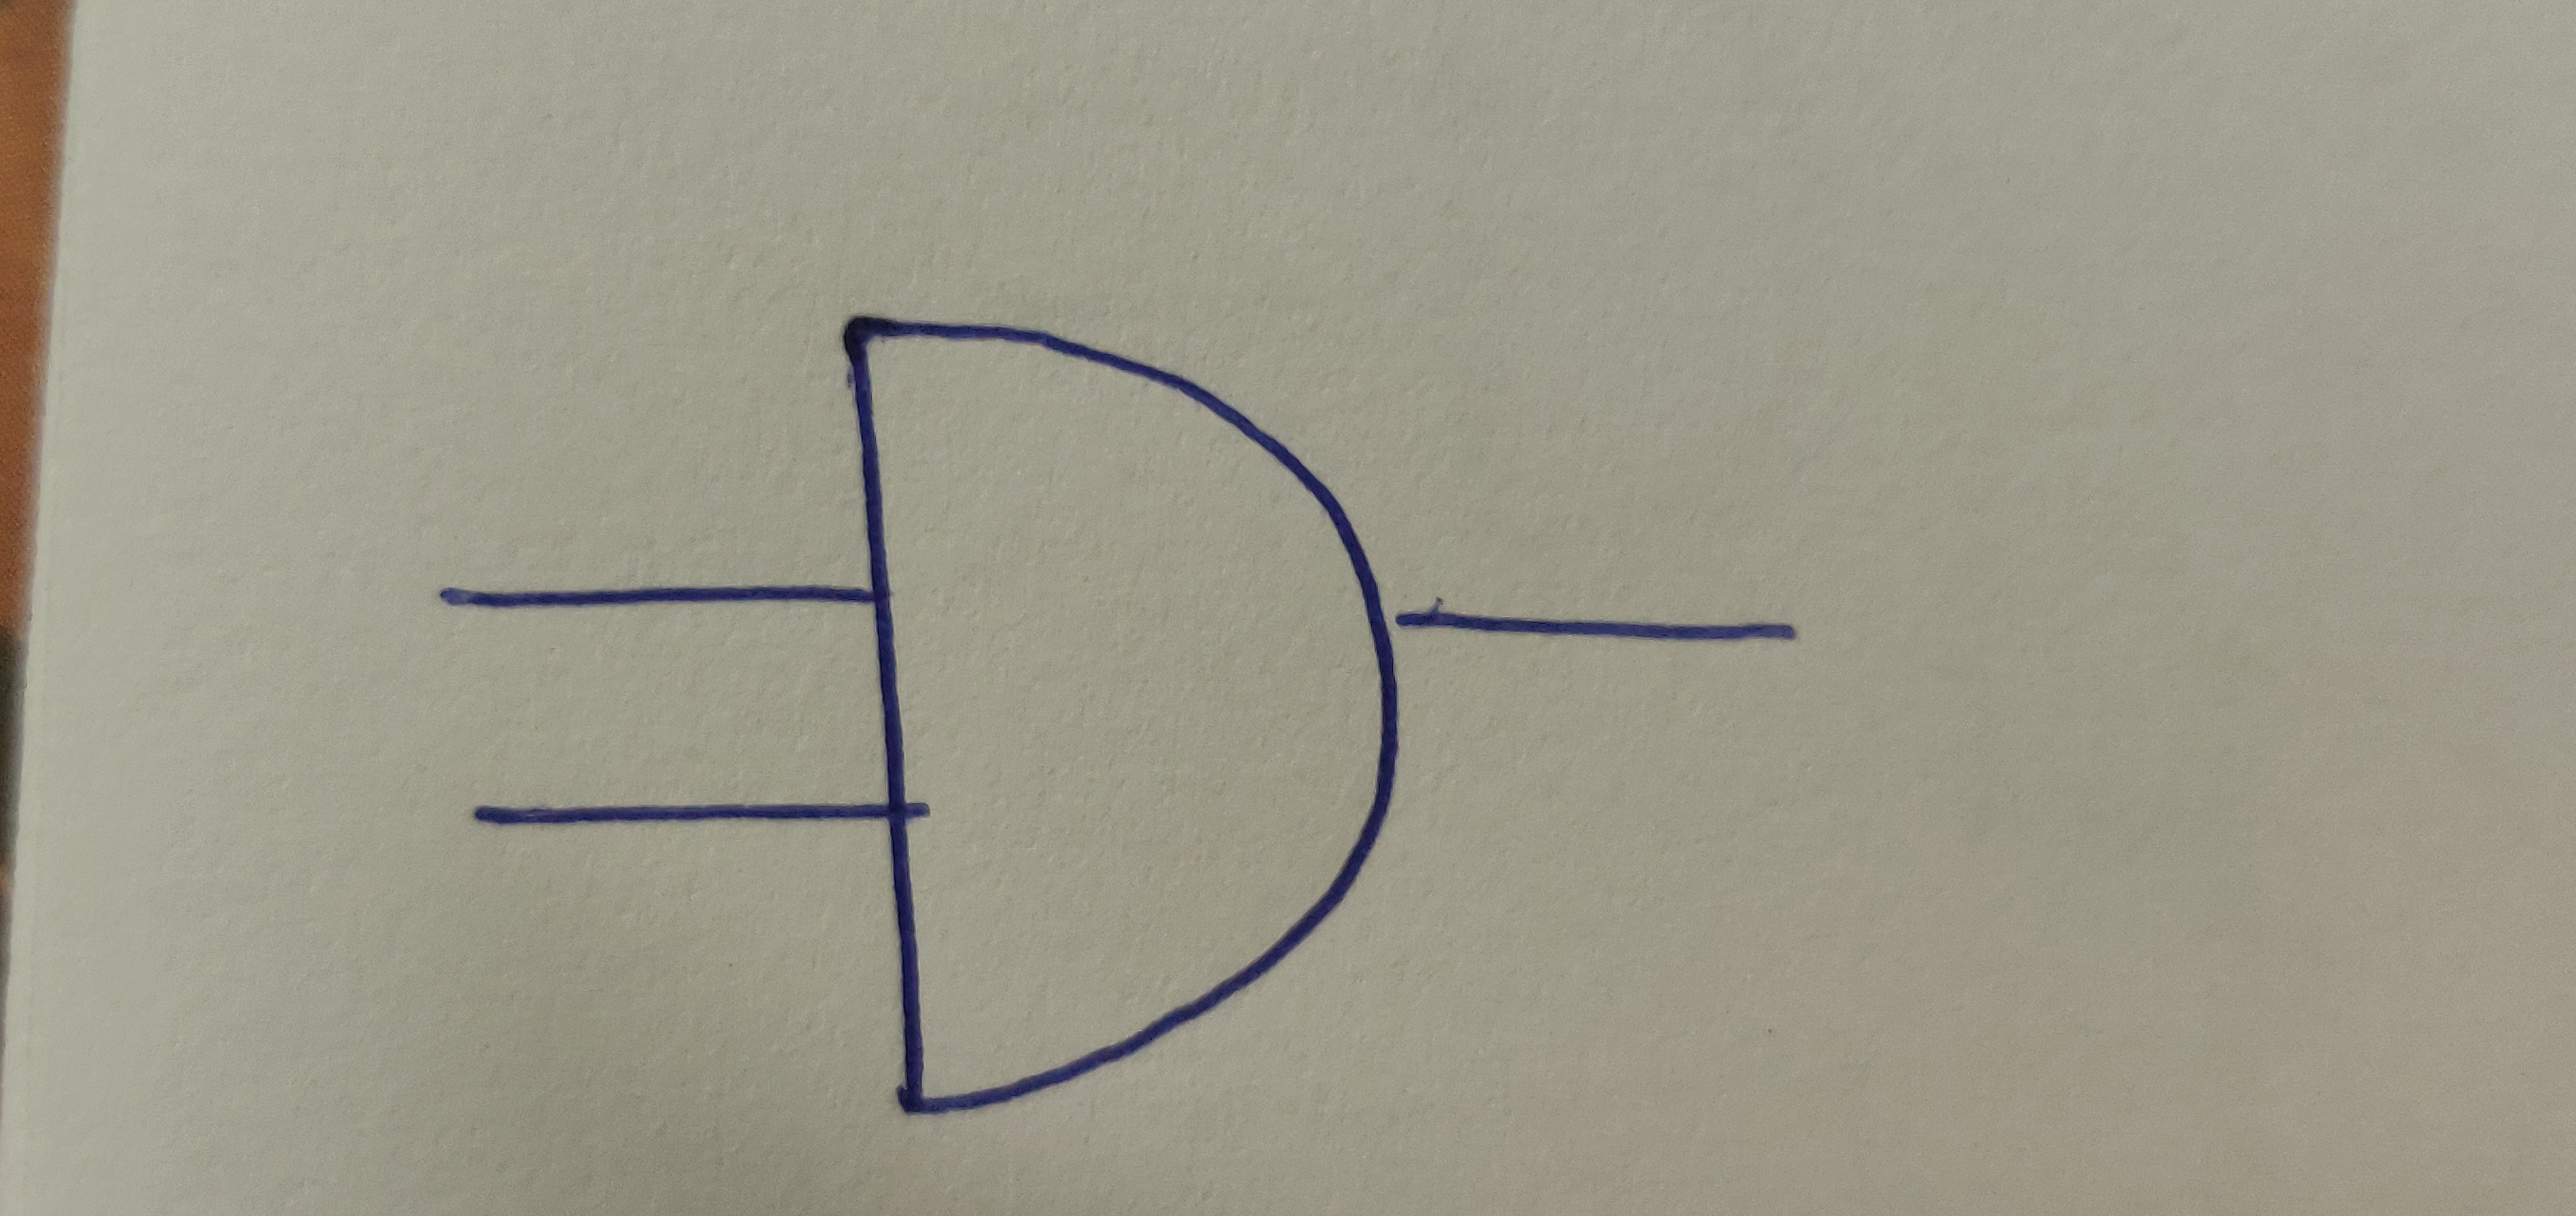and: (838, 309, 1408, 1122)
